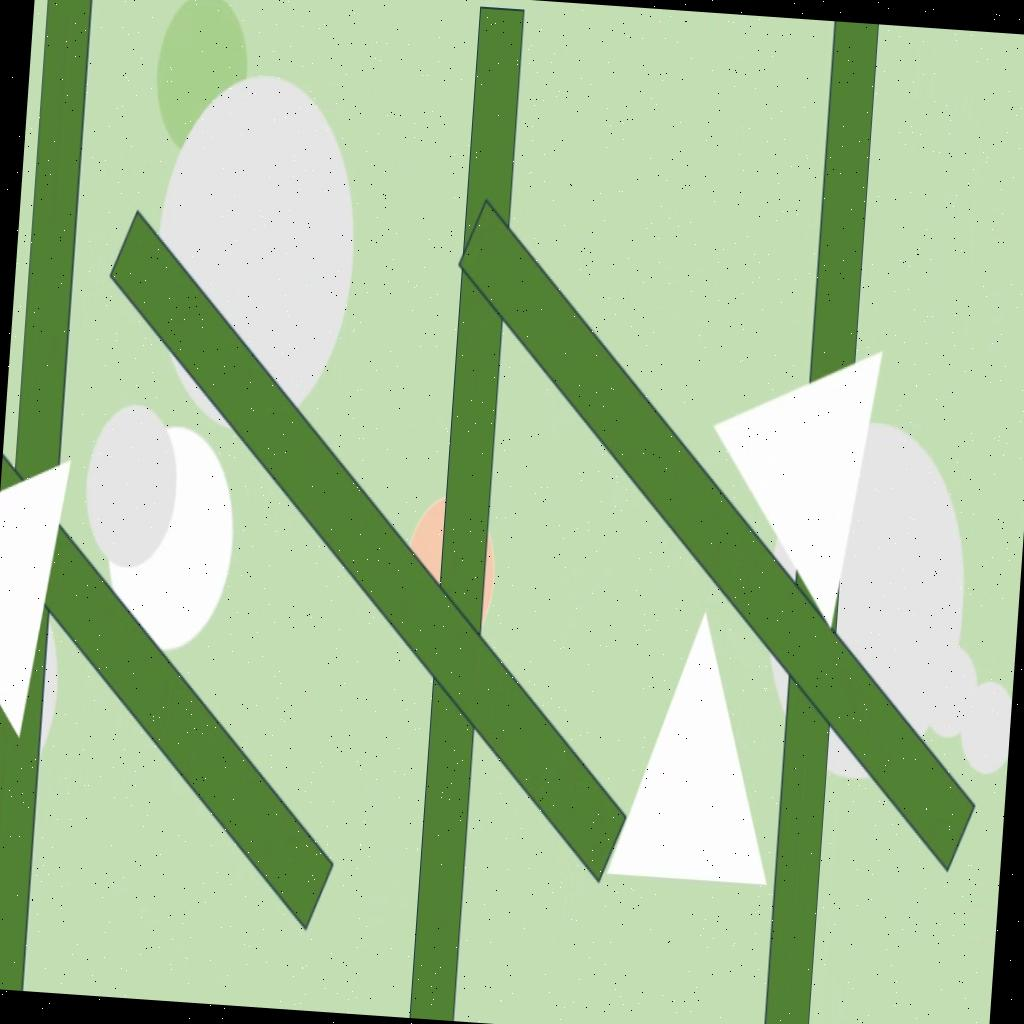Circle: (140, 64, 366, 436), (761, 412, 977, 787), (100, 418, 242, 658), (82, 400, 182, 568), (149, 0, 255, 158), (0, 567, 65, 801), (402, 496, 501, 646), (921, 643, 976, 740), (960, 676, 1014, 774)
